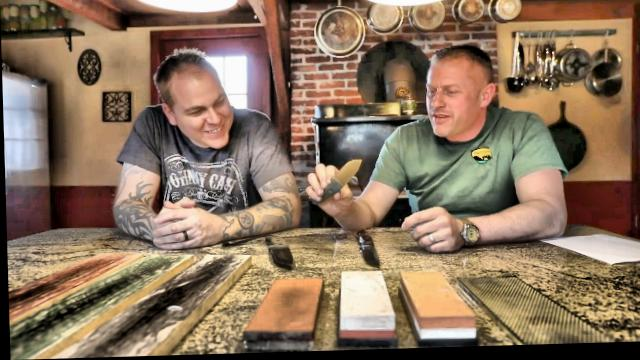knife: (302, 155, 368, 208)
